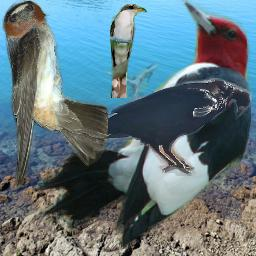Crow: (63, 78, 252, 176)
Cuckoo: (109, 3, 147, 98)
Swallow: (2, 0, 108, 191)
Woodpecker: (33, 0, 251, 249)
